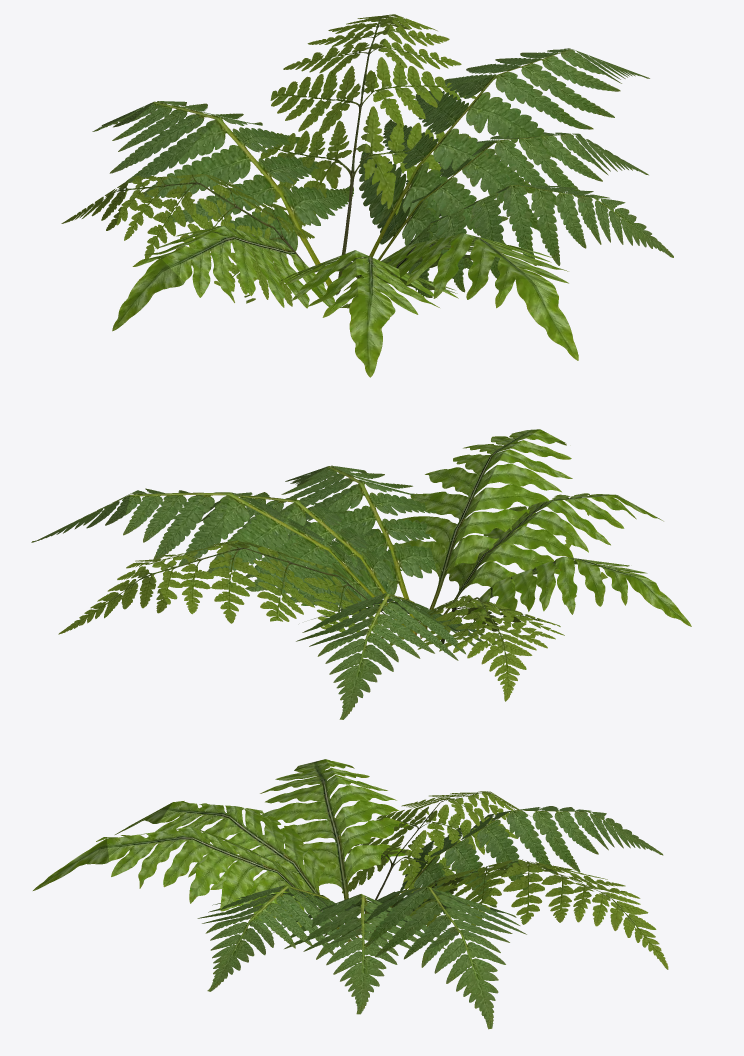
Rendered from fern_01.glb.
The picture shows the model from 3 angles, top to bottom: view 1: azimuth 30°, elevation 25°; view 2: azimuth 150°, elevation 25°; view 3: azimuth 270°, elevation 25°; orthographic projection. The views are drawn at different scales.
Visible parts, largest first — view 1: fern_01; view 2: fern_01; view 3: fern_01.
Part boxes in pixels (box(x1,y1,x2,y2)): fern_01: box(61, 14, 673, 377); fern_01: box(31, 429, 691, 719); fern_01: box(33, 759, 668, 1029).
Bounding box in the file's own units: 1.78 × 0.387 × 1.85.
1 material, 1 textured.
